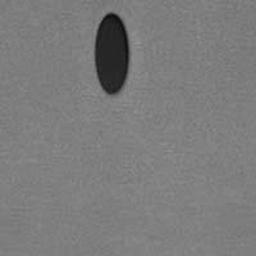Punching: (93, 14, 129, 96)
